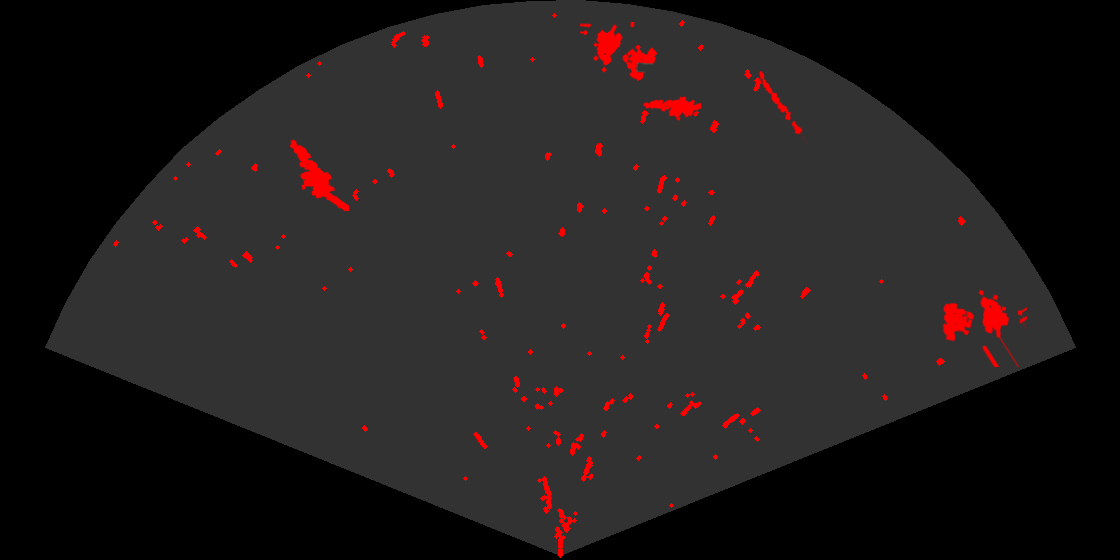cage: (941, 288, 1027, 367), (580, 22, 659, 82)
chain: (757, 69, 808, 143)
frogman: (288, 138, 349, 211), (641, 95, 701, 123)
